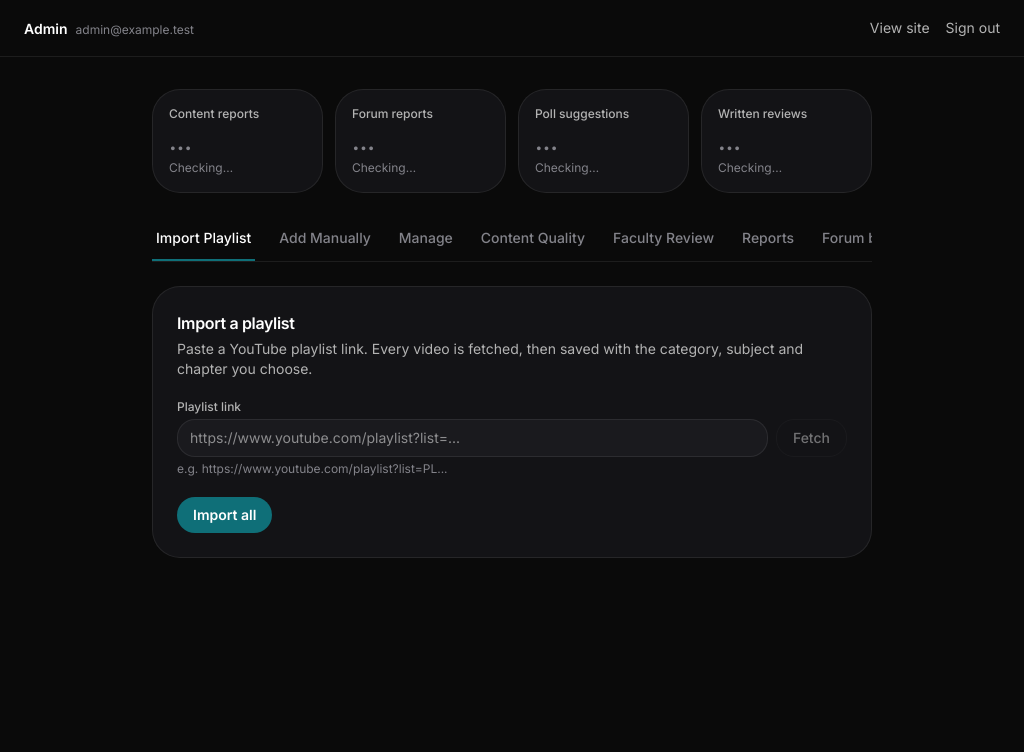
Test case: AdminPanel moderation digest › jumps to the Polls tab when the poll counter is clicked
Click the button "Poll suggestions … Checking…" at (604,141), box [518,89,689,193]
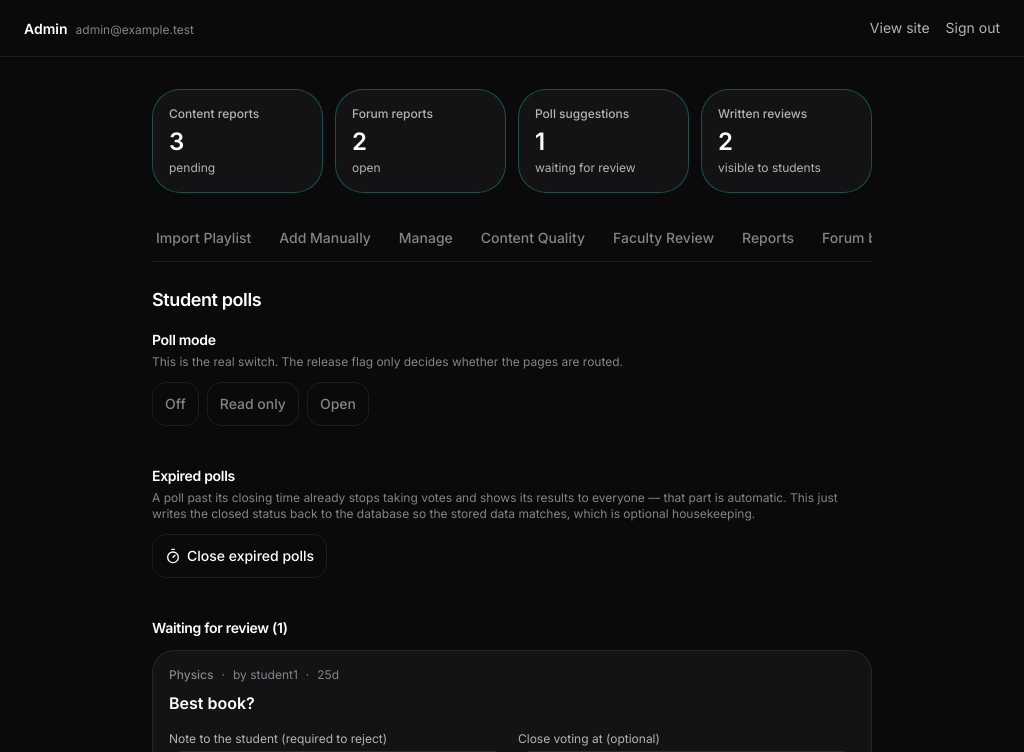
Now the heading "Student polls" is shown, box [152,289,261,310]
